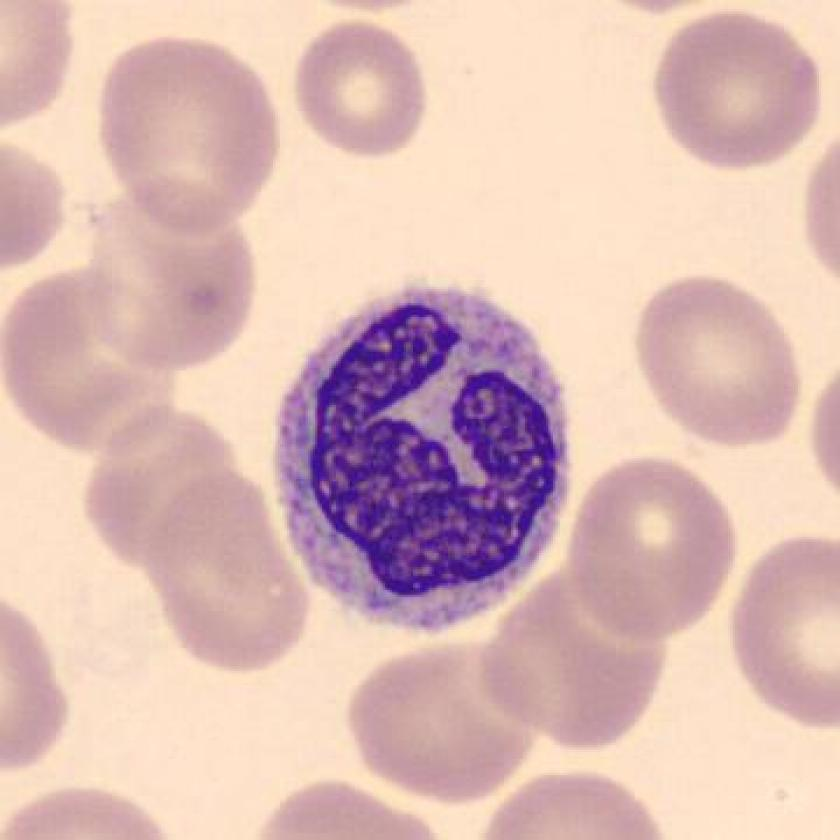monocyte: (255, 260, 594, 656)
